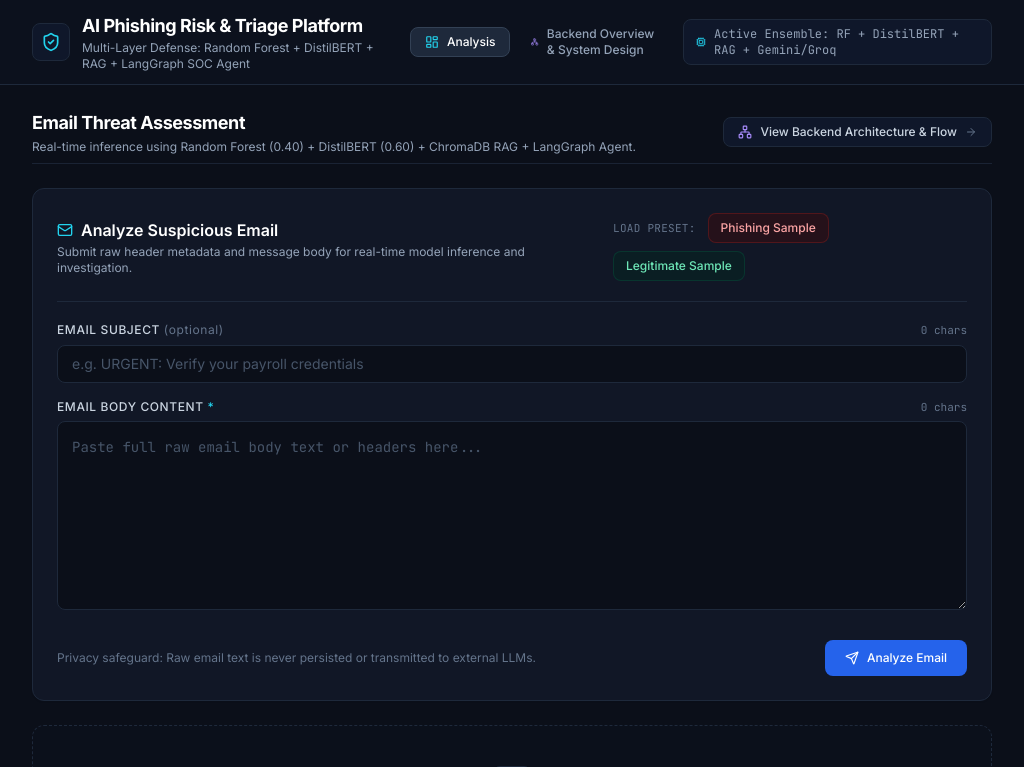
Test: App Root Integration Component › clears analysis results when Clear button is clicked
The image size is (1024, 767).
Type "Email text content" into the text box labelled "Email Body Content *". click: (512, 516)
box: [57, 421, 967, 610]
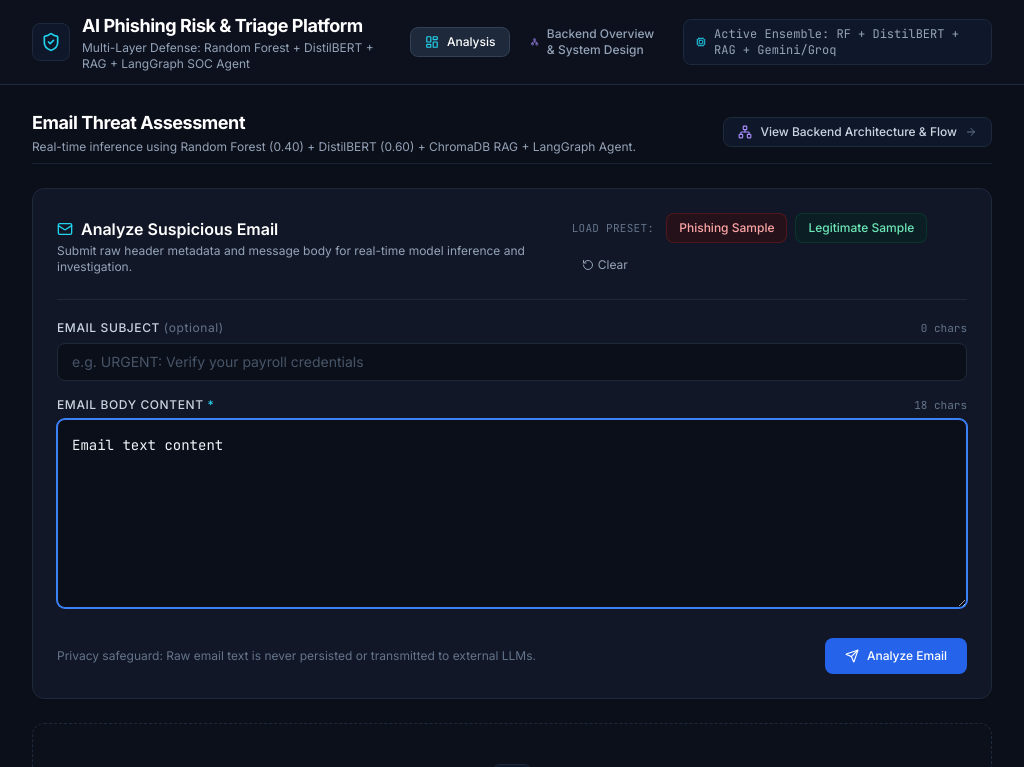
Click the button "Analyze Email". click: (896, 656)
box: [825, 638, 967, 674]
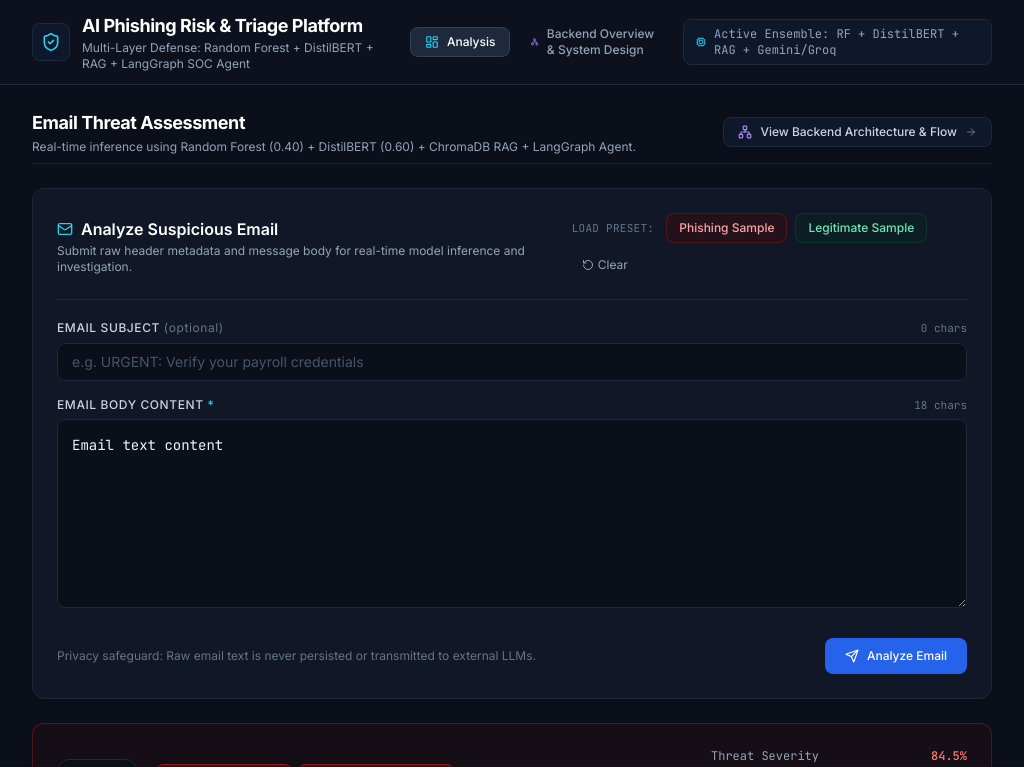
Click the button "Clear". click: (605, 265)
box: [572, 251, 638, 279]
(page scrolled)
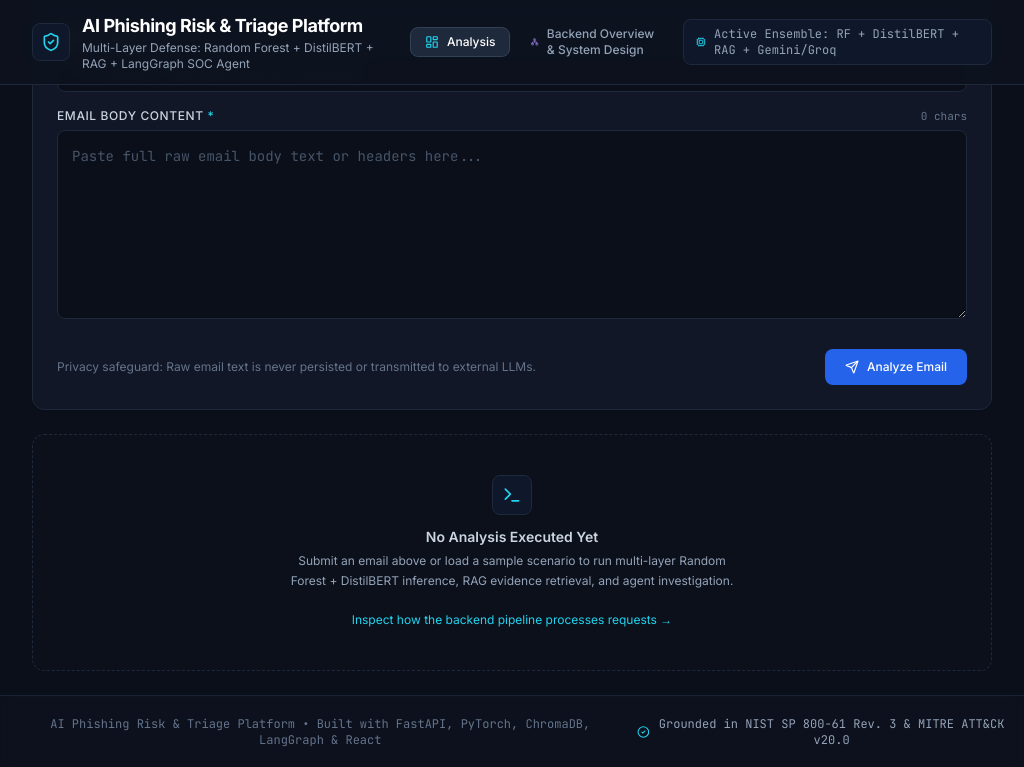
Result: the heading "No Analysis Executed Yet" is shown at [426, 528, 598, 545]
